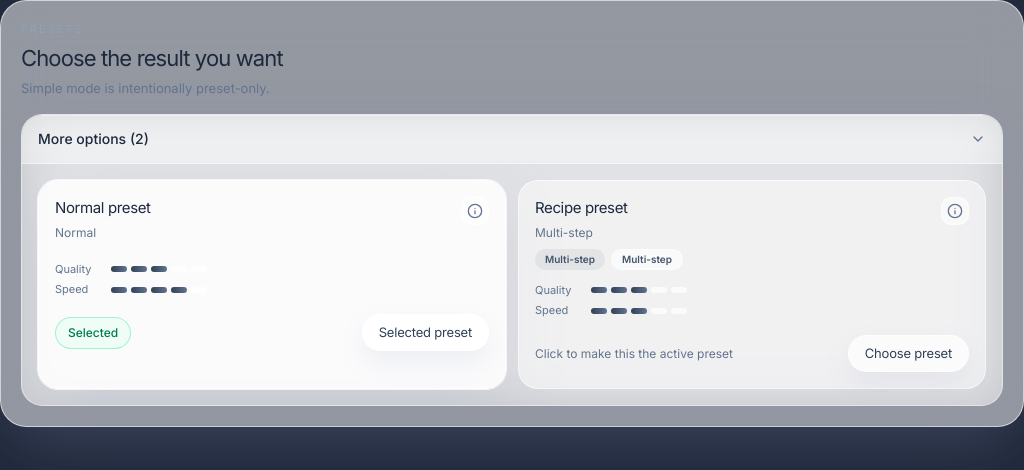
Test: Simple Mode UX (multi-step + details) › SimplePresetPicker groups non-recommended presets under More options
The width and height of the screenshot is (1024, 470).
Expected: the text "Recipe preset" is shown, [535, 197, 628, 220]
Click the button "More options (2)": point(93, 138) [22, 115, 1002, 164]
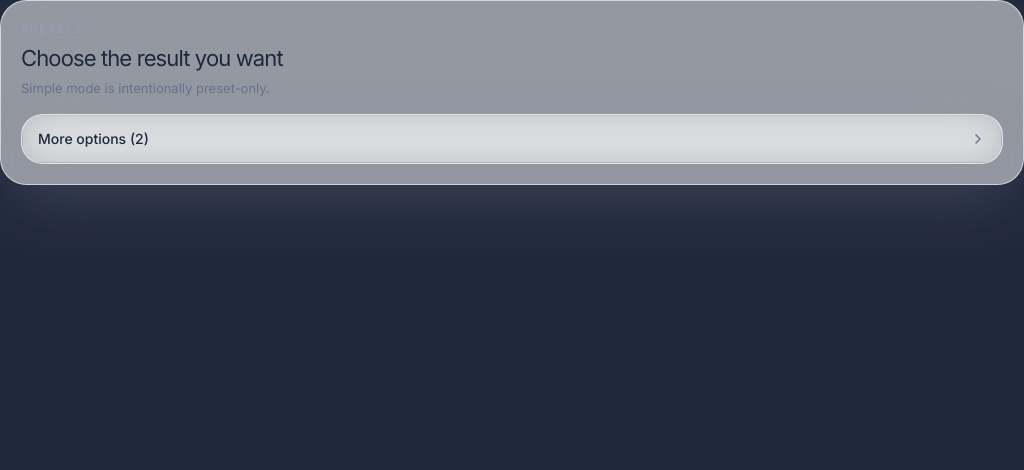
Now the button "More options (2)" is collapsed, box [22, 115, 1002, 163]
